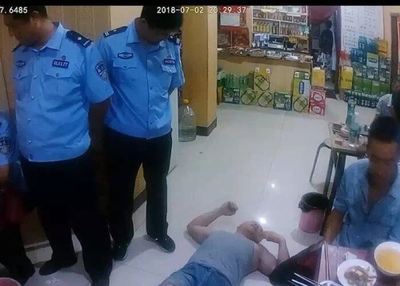fall: (62, 186, 294, 286)
